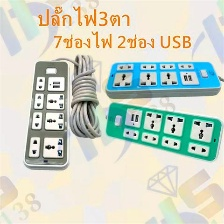three_eye_plug: (101, 100, 224, 163), (20, 56, 72, 171), (102, 59, 224, 101)
